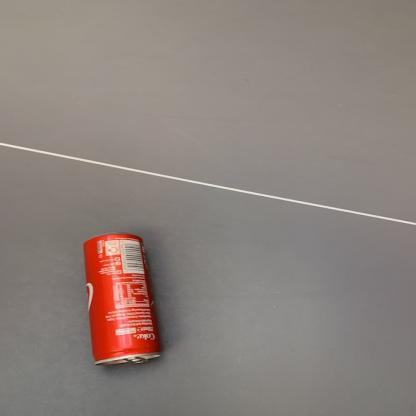trash: (82, 232, 165, 368)
